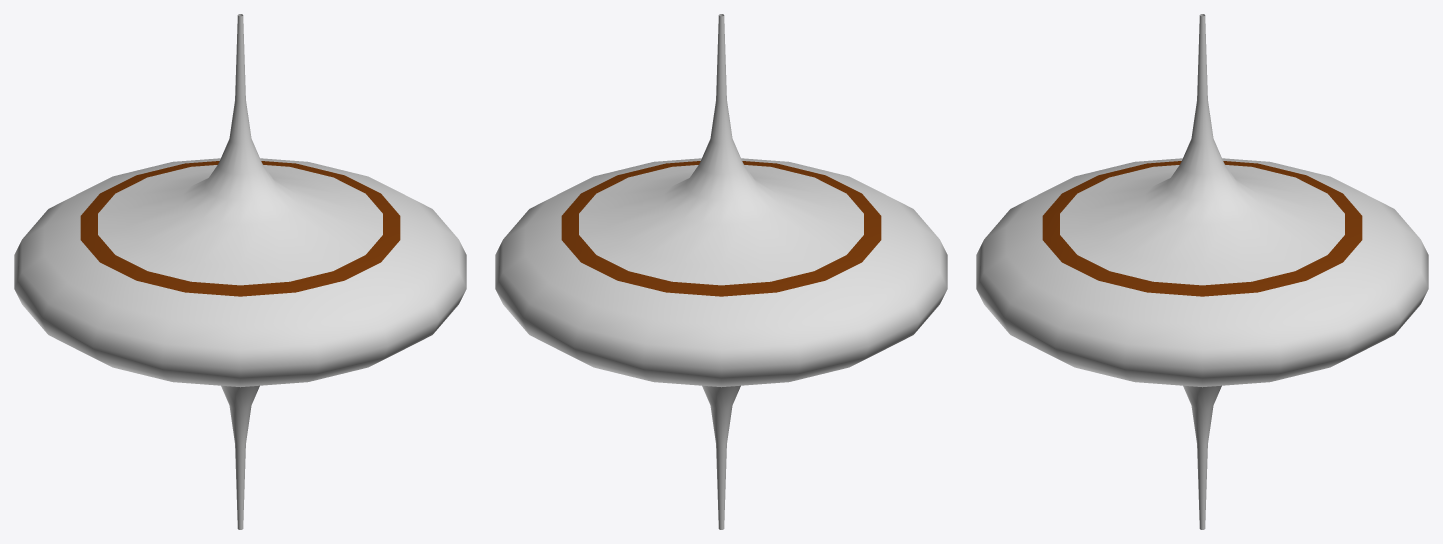
File: big_lavalamp.fbx
The picture shows the model from 3 angles, left to right: view 1: azimuth 30°, elevation 25°; view 2: azimuth 150°, elevation 25°; view 3: azimuth 270°, elevation 25°; orthographic projection.
Visible parts, largest first — view 1: polySurface94, polySurface98; view 2: polySurface94, polySurface98; view 3: polySurface94, polySurface98.
Part boxes in pixels (bbox=[...]): polySurface94: bbox=[14, 158, 466, 387]; polySurface98: bbox=[80, 14, 400, 529]; polySurface94: bbox=[495, 158, 947, 387]; polySurface98: bbox=[561, 14, 881, 529]; polySurface94: bbox=[976, 158, 1428, 387]; polySurface98: bbox=[1042, 14, 1362, 529].
Size of the model in its own units: 8.99 by 11.09 by 8.85.
